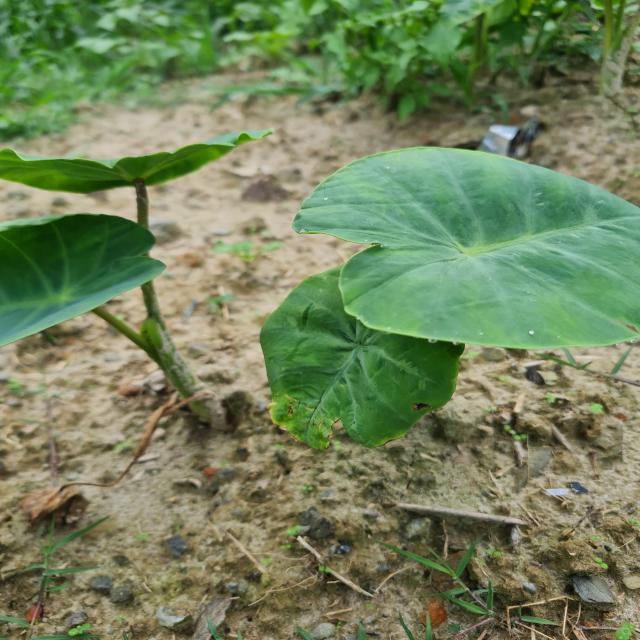weed: (271, 125, 640, 459), (1, 101, 265, 478), (362, 510, 559, 616), (1, 506, 113, 610)
